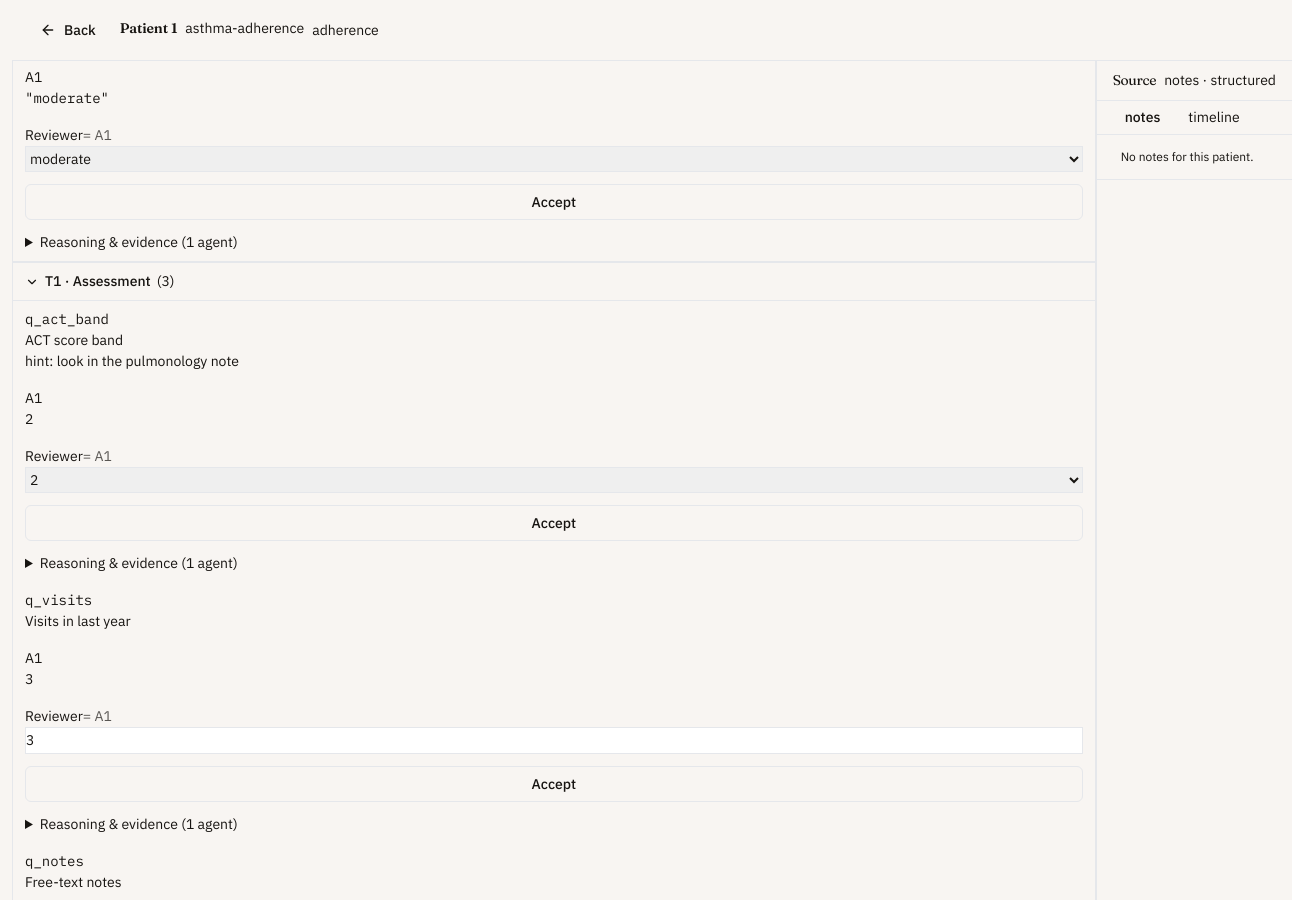
Test: Question override — enum › (c) selecting the agent's exact value shows the '= A1' source match
This screenshot has width=1292, height=900.
(page scrolled)
Expected: the text "= A1" below "hint:" is shown, [83, 447, 112, 465]
Note: Selecting a DIFFERENT value drops the match label.
Select "3" in the dropdown below "hint:" at (554,480), box [25, 467, 1083, 493]
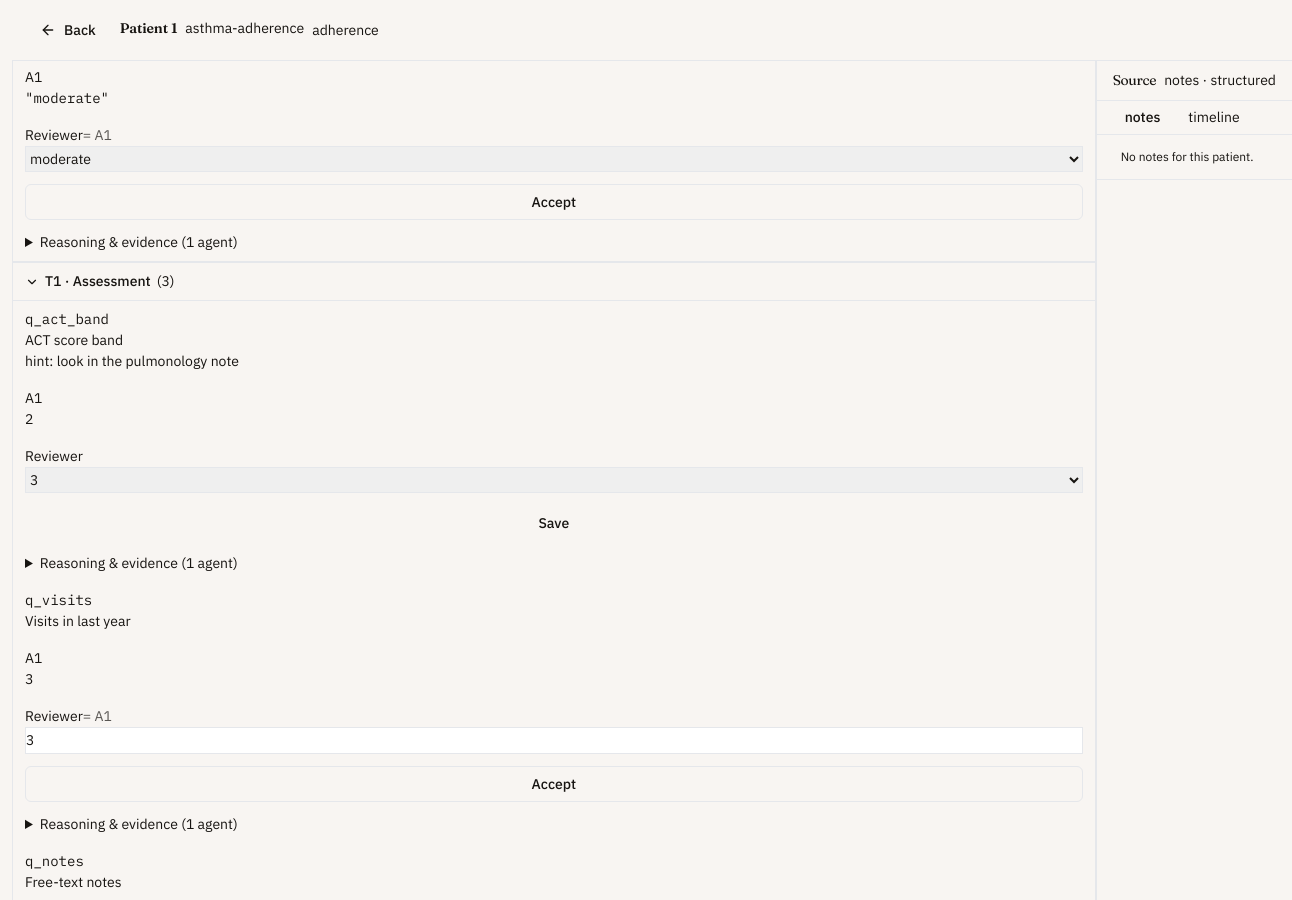
Note: Re-selecting the agent's number restores the match.
Select "2" in the dropdown below "hint:" at (554,480), box [25, 467, 1083, 493]
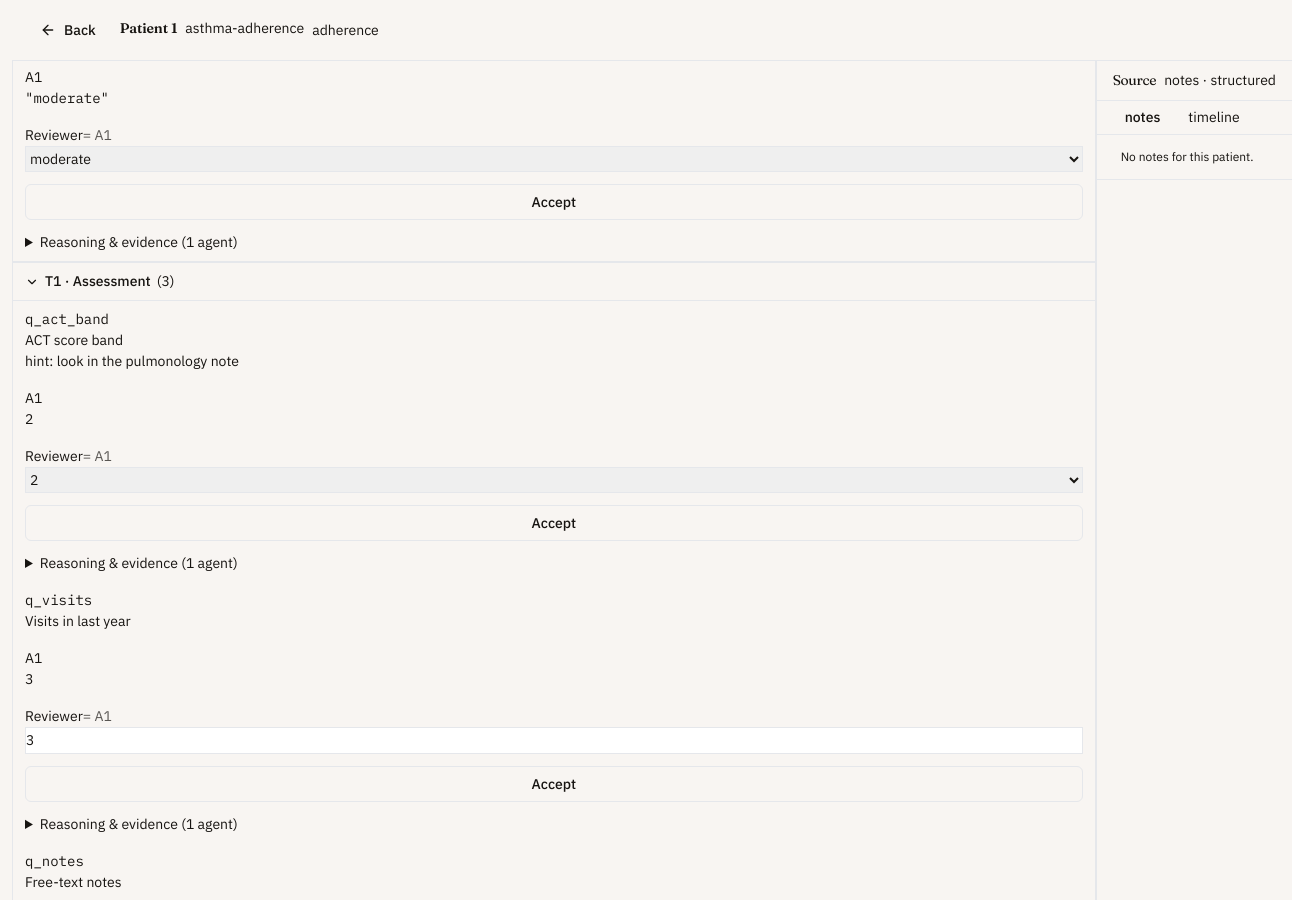
Result: the text "= A1" below "hint:" is shown at [83, 447, 112, 465]
